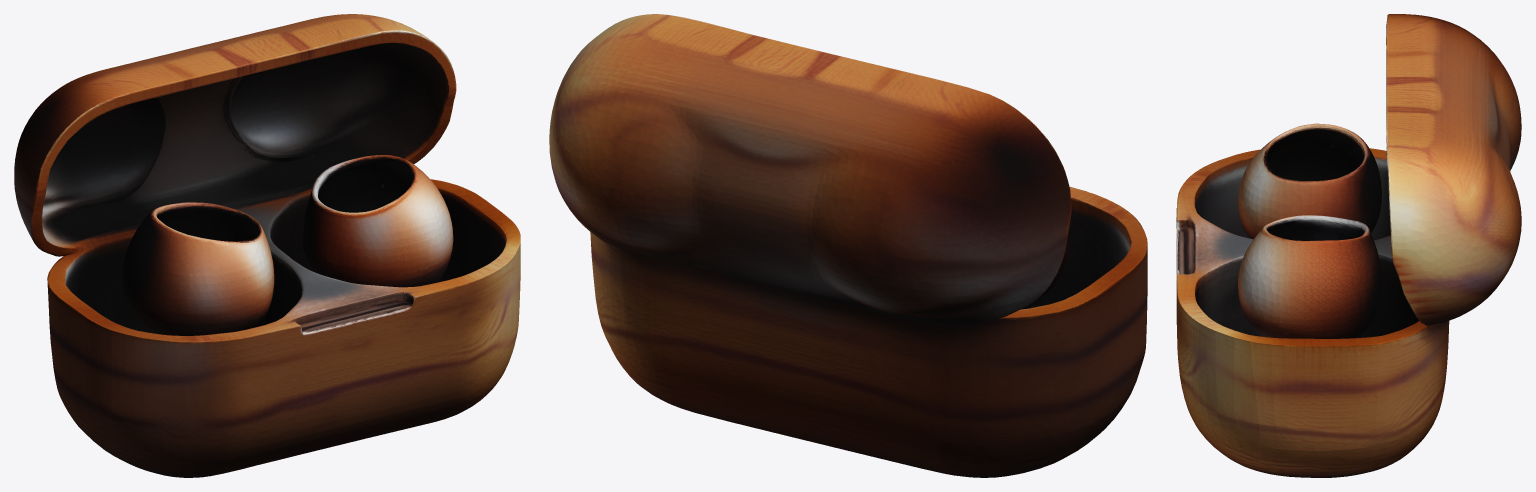
The model's file is wooden-earbuds-case-3d.jpeg.glb.
3 renders of one model, left to right at view 1: azimuth 30°, elevation 25°; view 2: azimuth 150°, elevation 25°; view 3: azimuth 270°, elevation 25°, orthographic. The views are drawn at different scales.
Parts seen in each view (by area): view 1: world; view 2: world; view 3: world.
Boxes of the visible parts, <box> form: world: <box>14,14,520,477</box>; world: <box>549,14,1147,477</box>; world: <box>1176,14,1521,477</box>.
Bounding box in the file's own units: 0.9998 × 0.7618 × 0.732.
Materials: 1 (1 with a texture image).
